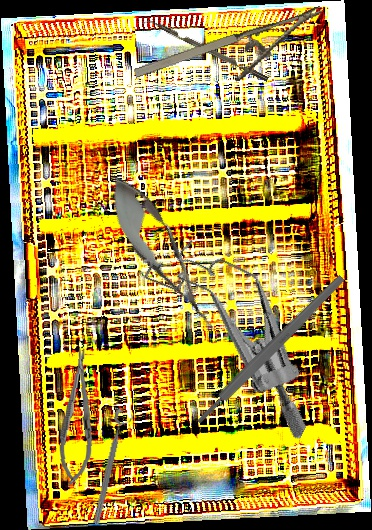Chopper: (141, 15, 269, 88)
Fixation Ring: (90, 408, 135, 527)
Micro Scissor: (92, 162, 233, 346)
Needle Holder: (131, 5, 335, 110), (56, 346, 100, 487)
Scalpel Handle: (193, 272, 347, 427)
Speculum: (102, 221, 360, 443)
